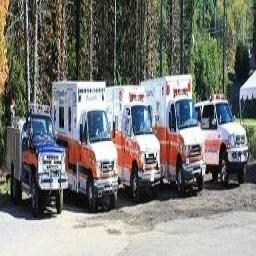ambulance: (52, 81, 117, 211), (141, 74, 205, 195), (6, 104, 67, 216), (106, 85, 160, 200), (196, 93, 247, 186)
